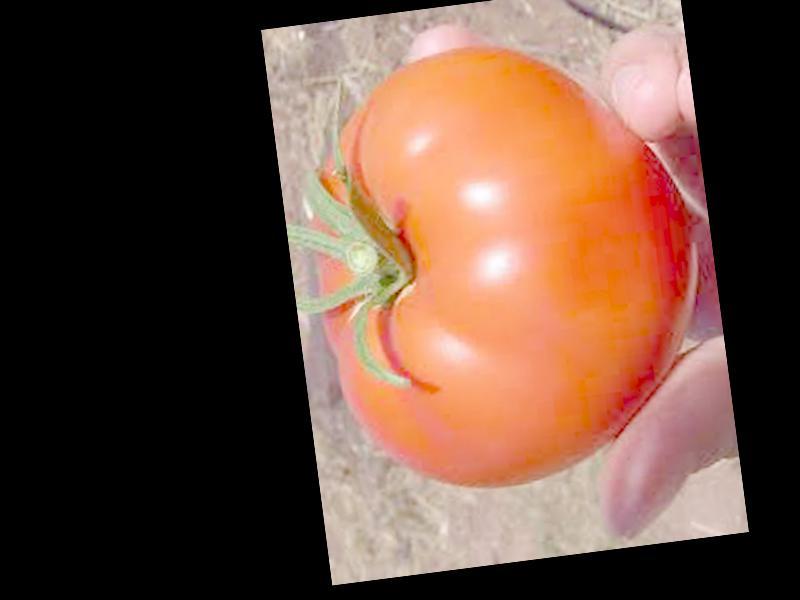Tomato: (292, 23, 717, 500)
